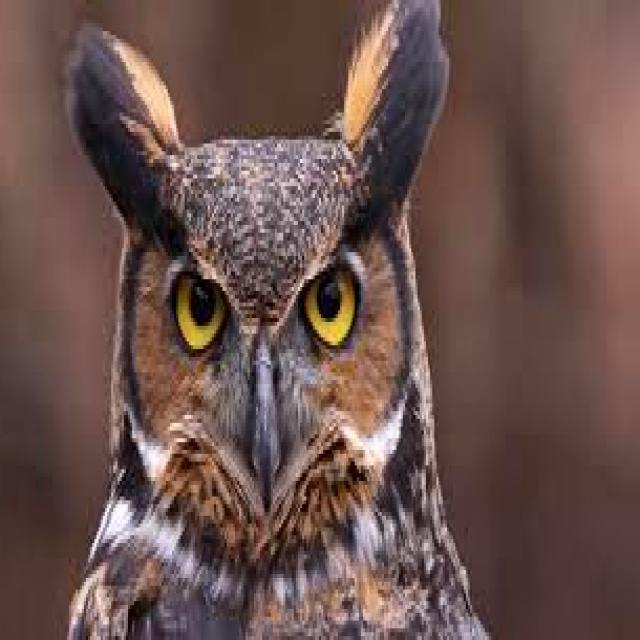owl: (69, 0, 491, 636)
